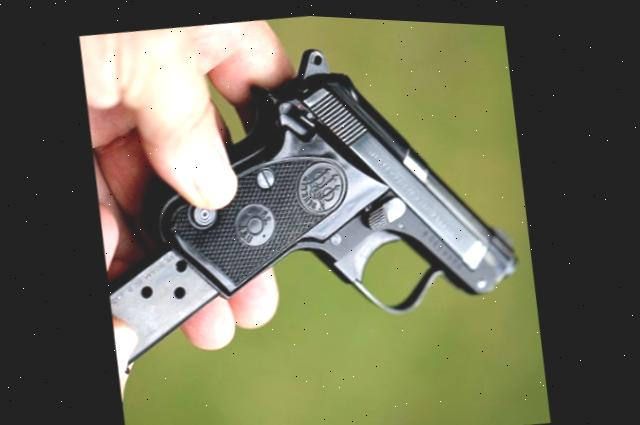pistol: (153, 13, 529, 330)
